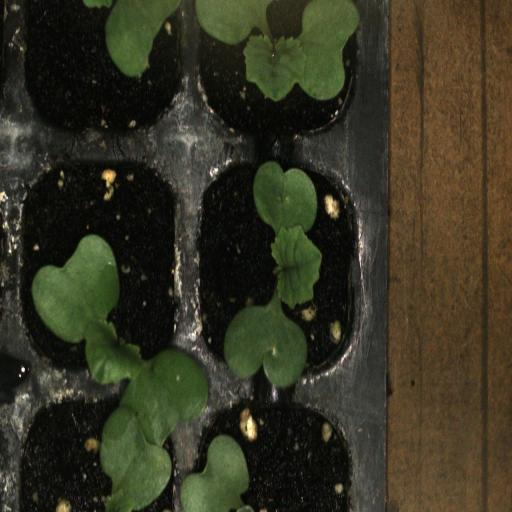Folha: (178, 434, 254, 512)
Germinacao: (13, 149, 192, 387), (192, 150, 368, 382), (192, 0, 370, 151)
